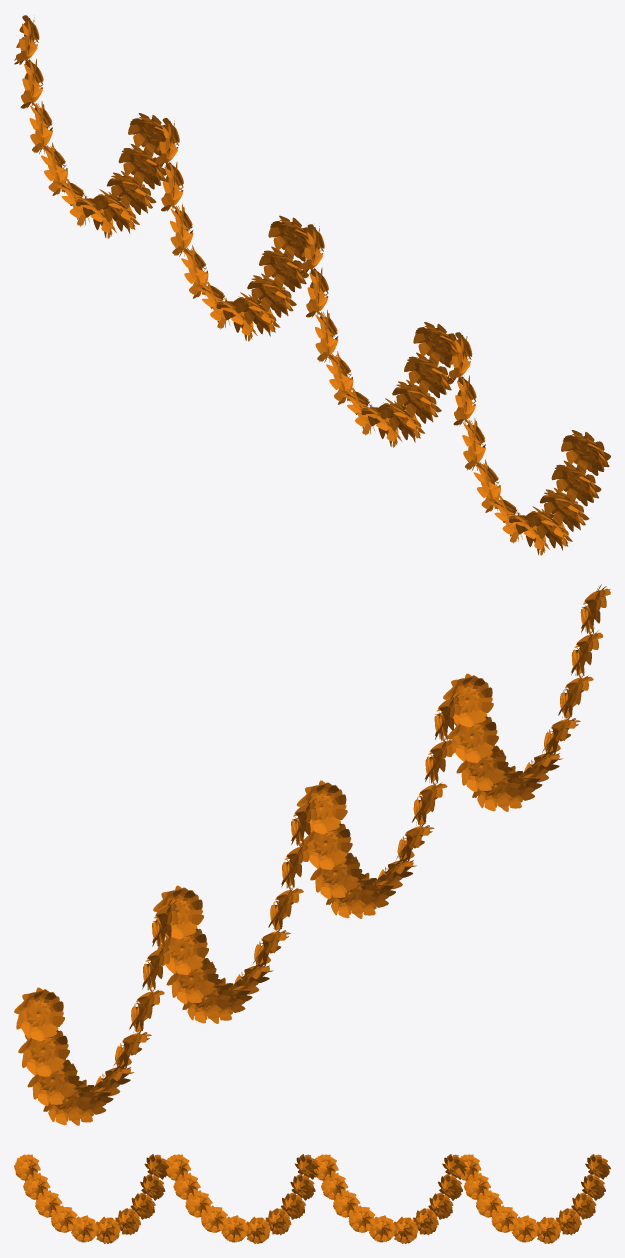
Rendered from roundgarland1.fbx.
3 renders of one model, top to bottom at view 1: azimuth 30°, elevation 25°; view 2: azimuth 150°, elevation 25°; view 3: azimuth 270°, elevation 25°, orthographic. The views are drawn at different scales.
Visible parts, largest first — view 1: Cube.233, Cube.017, Cube.018, Cube.019; view 2: Cube.019, Cube.233, Cube.017, Cube.018; view 3: Cube.233, Cube.017, Cube.019, Cube.018.
Boxes of the visible parts, box(x1,y1,x2,y2) form: Cube.233: box(447, 332, 610, 555); Cube.017: box(299, 224, 458, 447); Cube.018: box(154, 118, 311, 341); Cube.019: box(14, 15, 175, 238); Cube.019: box(14, 898, 181, 1125); Cube.233: box(443, 584, 610, 811); Cube.017: box(296, 691, 464, 918); Cube.018: box(153, 796, 320, 1023); Cube.233: box(14, 1154, 168, 1243); Cube.017: box(166, 1154, 319, 1243); Cube.019: box(456, 1154, 610, 1243); Cube.018: box(313, 1154, 467, 1243).
Bounding box in the file's own units: 4.93 × 23.38 × 145.
